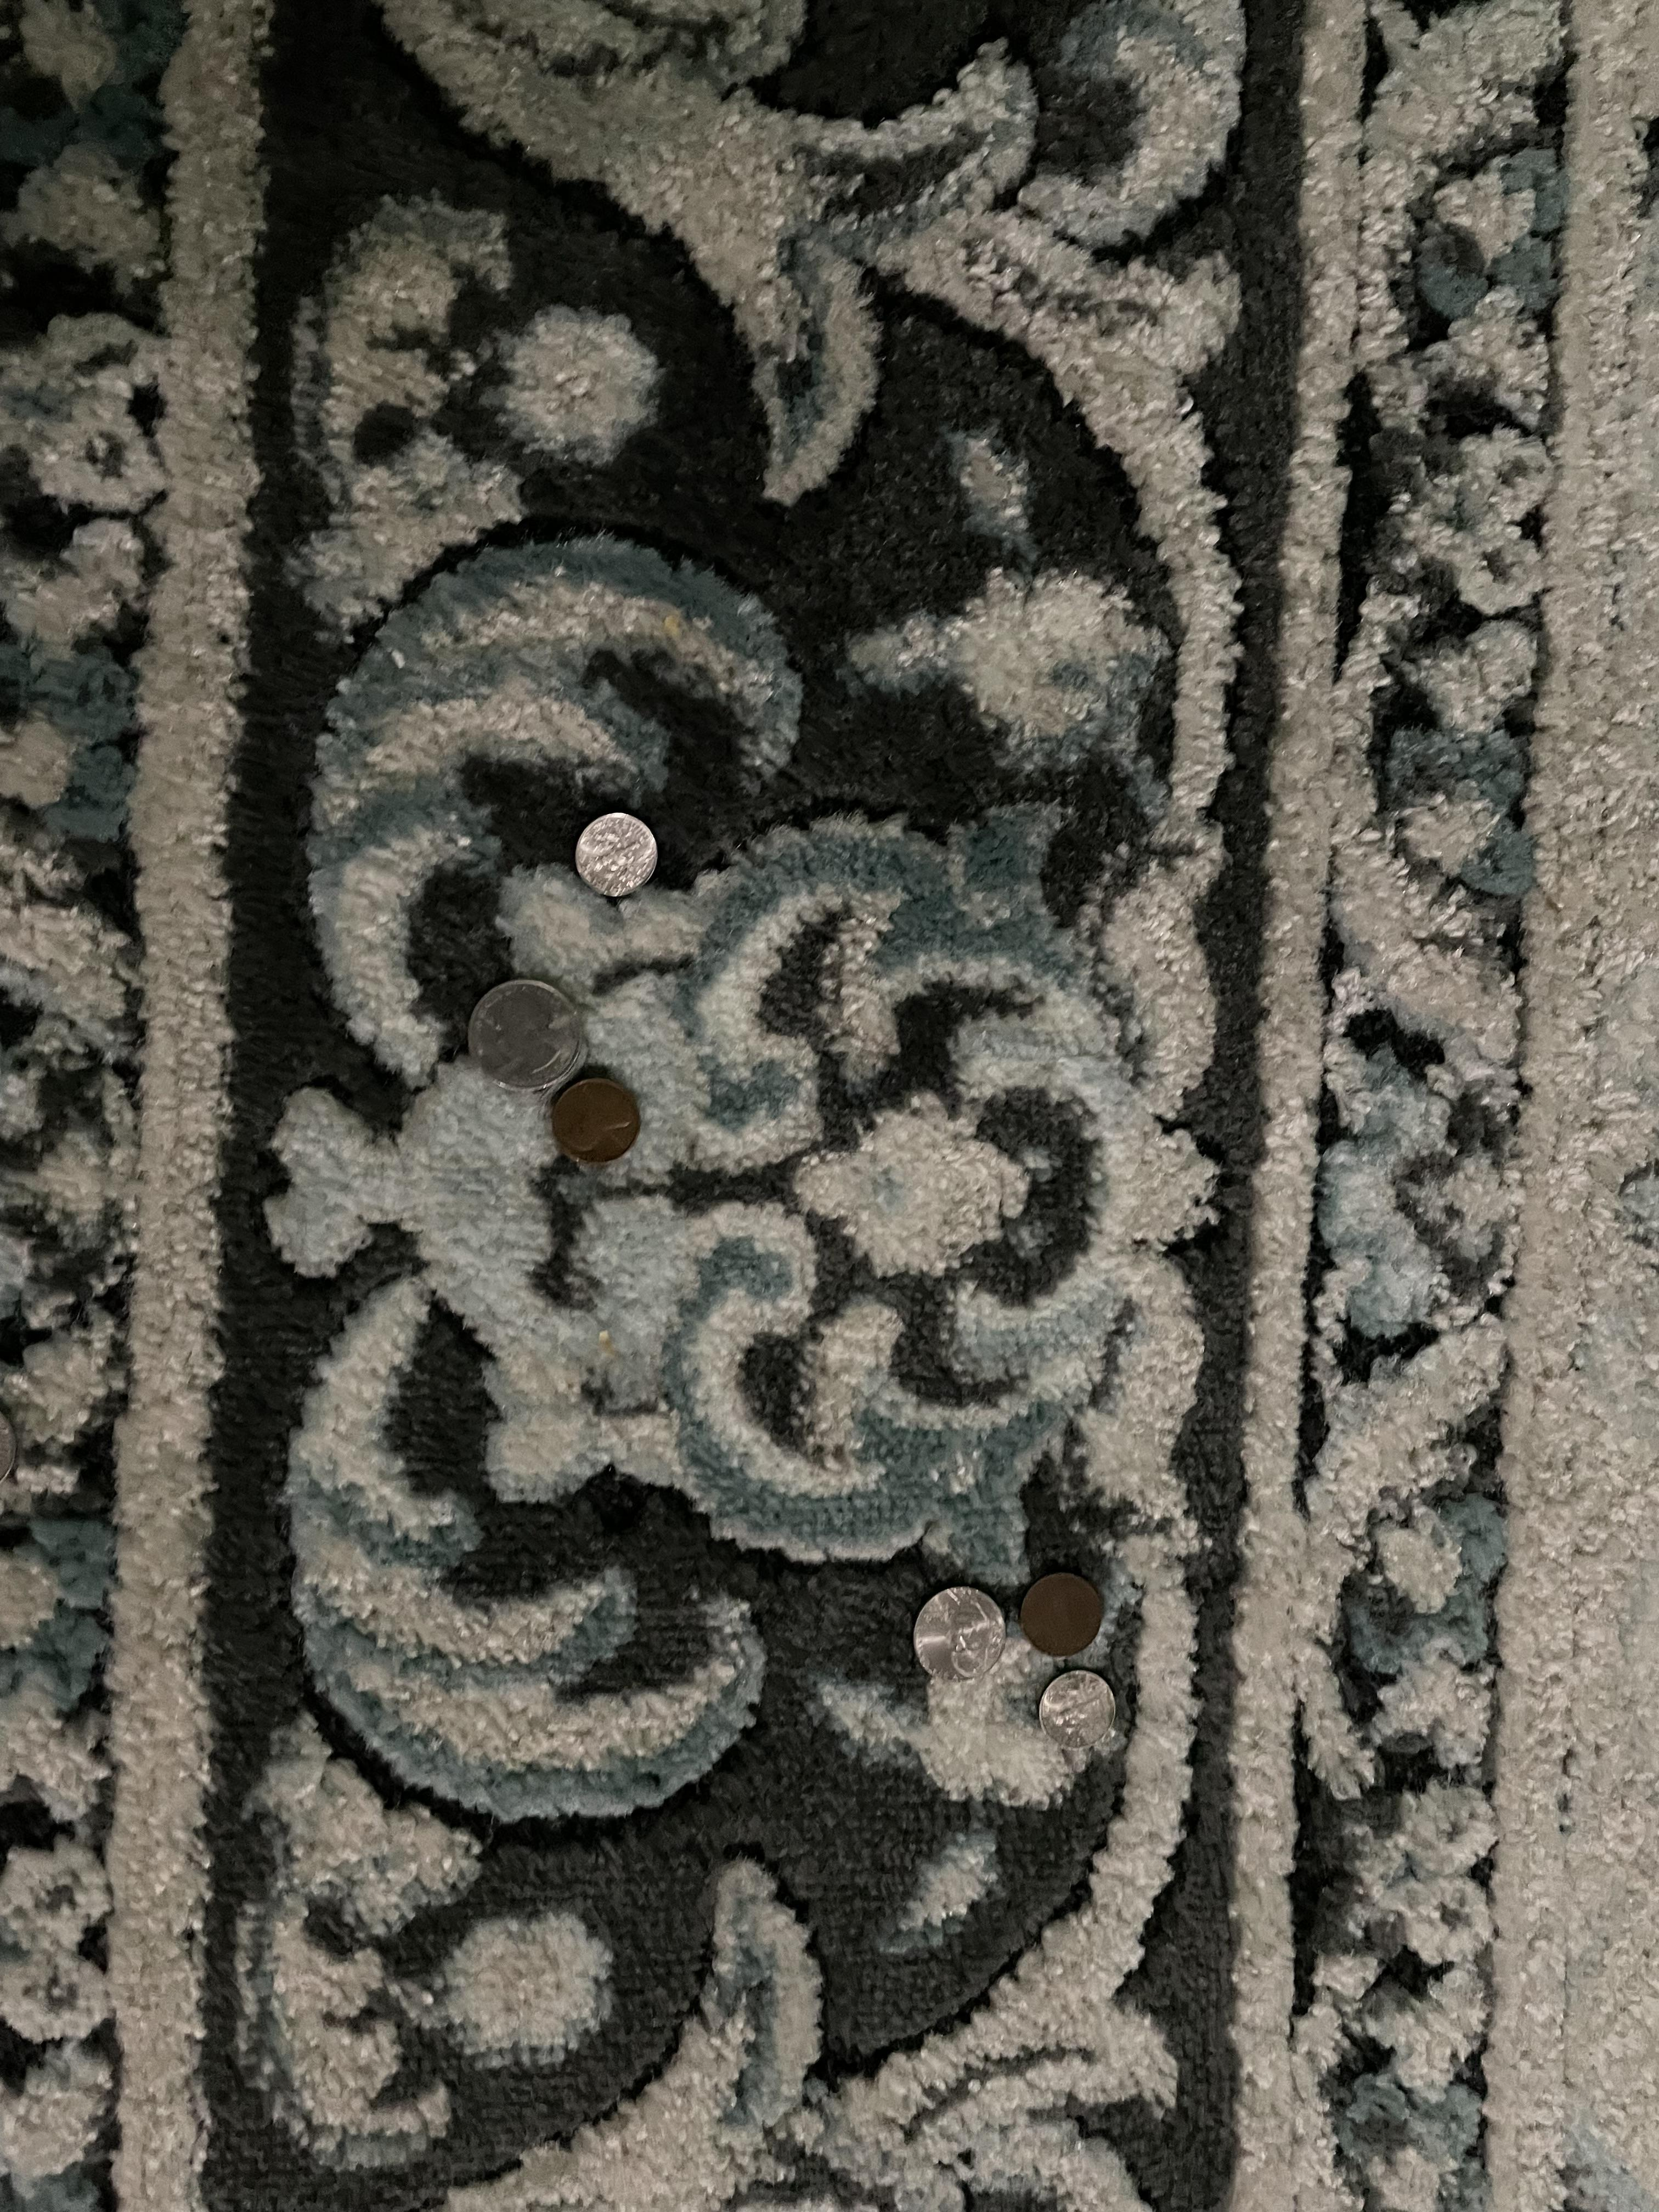Dime: (561, 810, 669, 904), (1042, 1662, 1131, 1756)
Nickel: (897, 1580, 1019, 1698)
Penny: (544, 1071, 643, 1174), (1023, 1568, 1100, 1658)
Quarter: (453, 974, 589, 1097)
